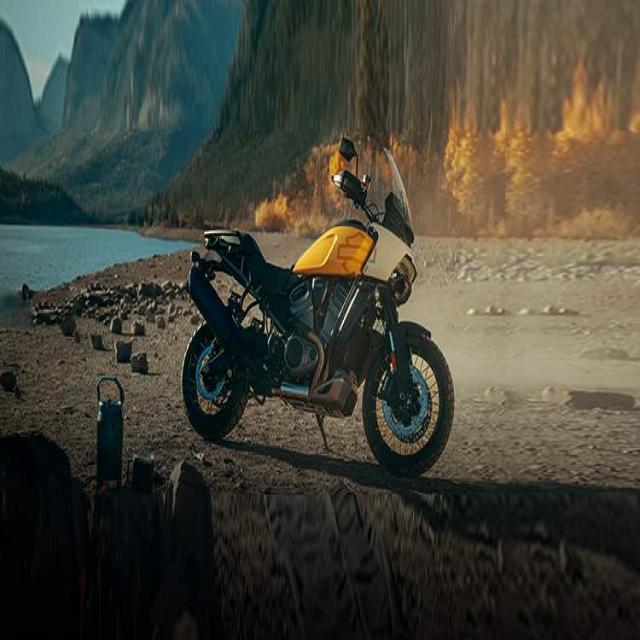motorcycle: (181, 138, 454, 474)
